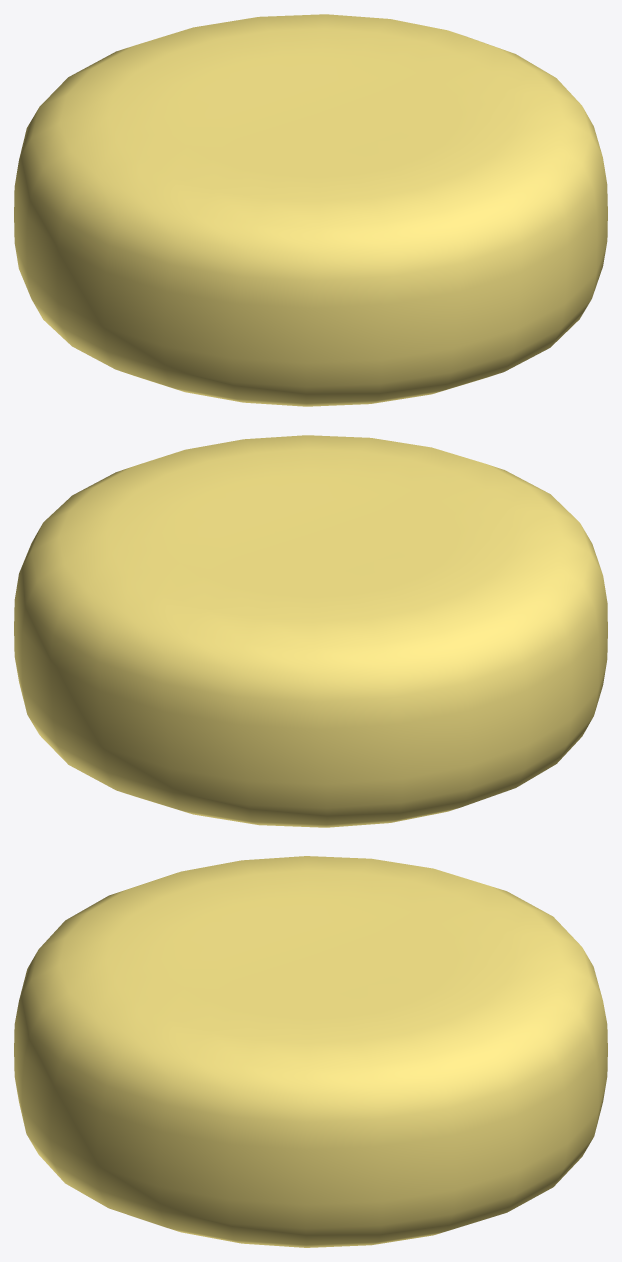
File: Mint_C_01.fbx
3 renders of one model, top to bottom at view 1: azimuth 30°, elevation 25°; view 2: azimuth 150°, elevation 25°; view 3: azimuth 270°, elevation 25°, orthographic.
Parts seen in each view (by area): view 1: Mint_C_01_LOD0; view 2: Mint_C_01_LOD0; view 3: Mint_C_01_LOD0.
Boxes of the visible parts, x1,y1,x2,y2 form: Mint_C_01_LOD0: (14,14,607,406); Mint_C_01_LOD0: (14,435,607,827); Mint_C_01_LOD0: (14,856,607,1247).
Size of what is drawn, in the model's own units: 326 by 116 by 326.
